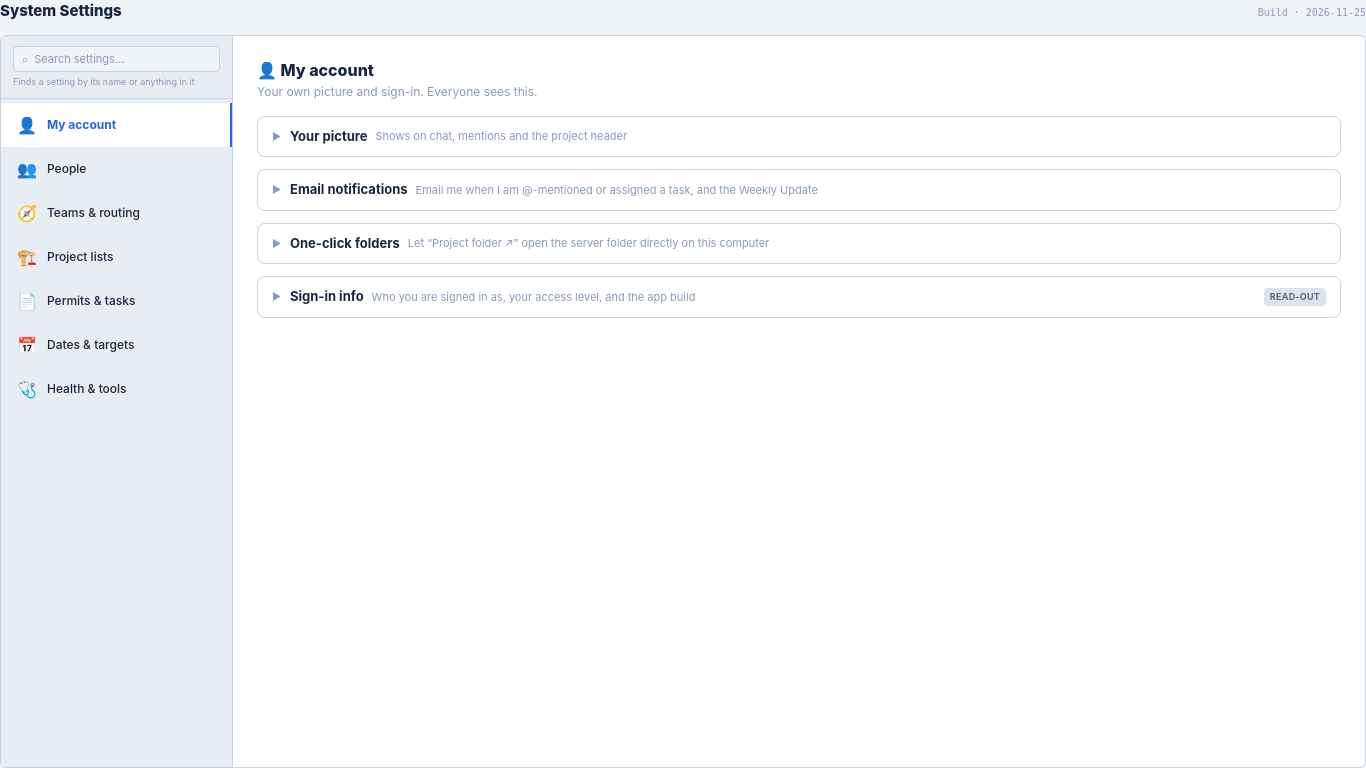
Test: fix-319 #76: Settings is a page › ★ and clicking the rail navigates — asserted on the resolved route
The width and height of the screenshot is (1366, 768).
Click the link with test id "settings-nav-permits". click: (76, 301)
box: [17,291,135,311]
(page scrolled)
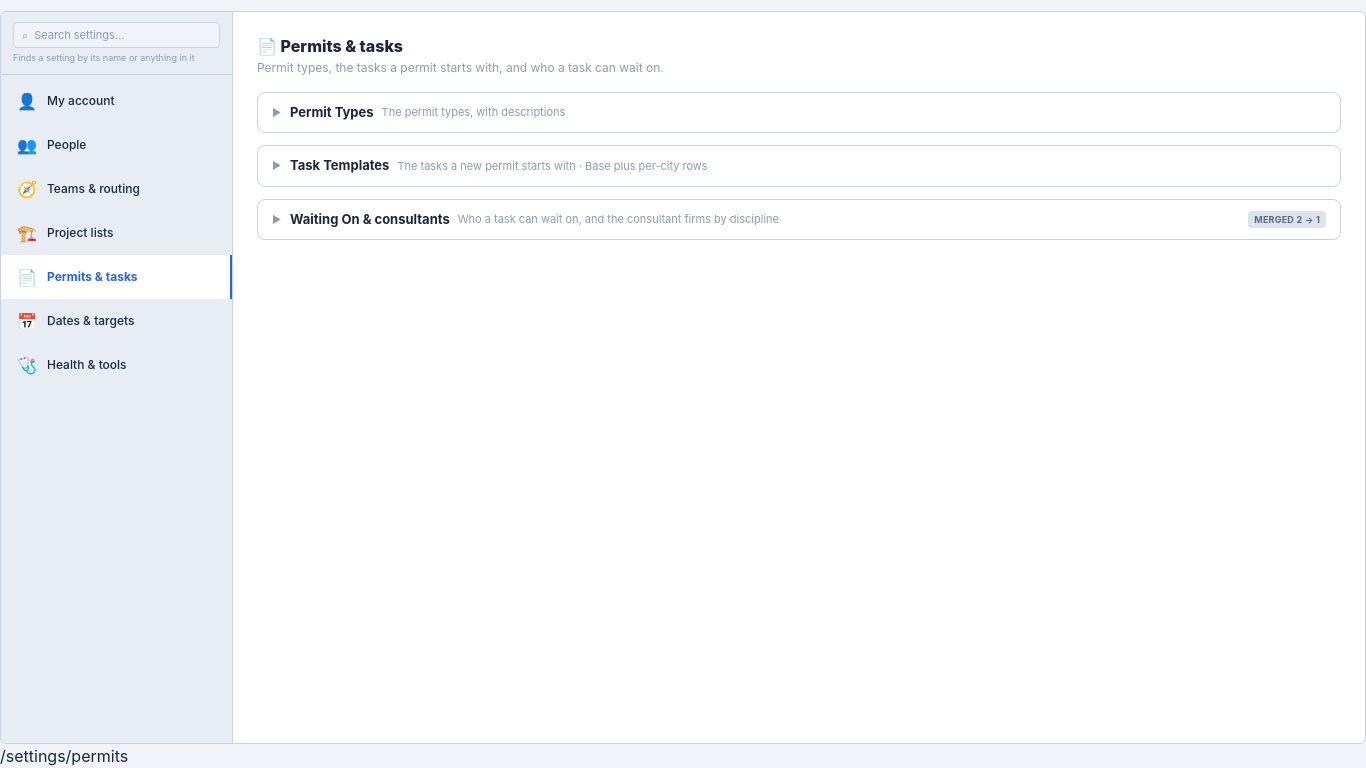
Check: the text with test id "where" reads "/settings/permits", box [0,746,128,766]
